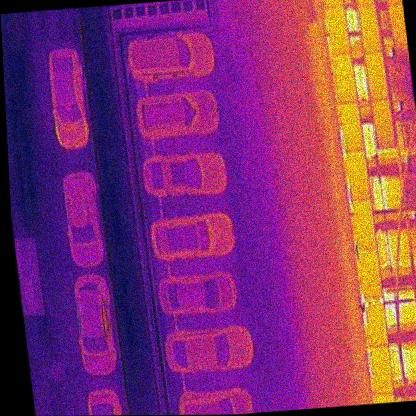Hotspot: (363, 296, 390, 348)
Normal: (345, 149, 371, 201), (371, 100, 398, 150), (331, 55, 358, 104), (364, 51, 390, 101), (352, 199, 378, 249), (325, 5, 350, 55), (370, 346, 396, 394), (340, 101, 364, 152), (357, 6, 381, 54), (359, 249, 382, 297), (389, 3, 408, 52)
